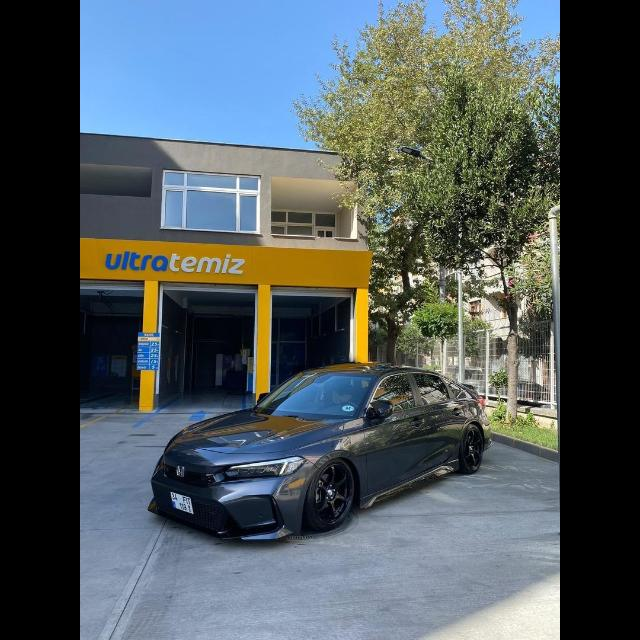Plaka: (171, 492, 193, 514)
